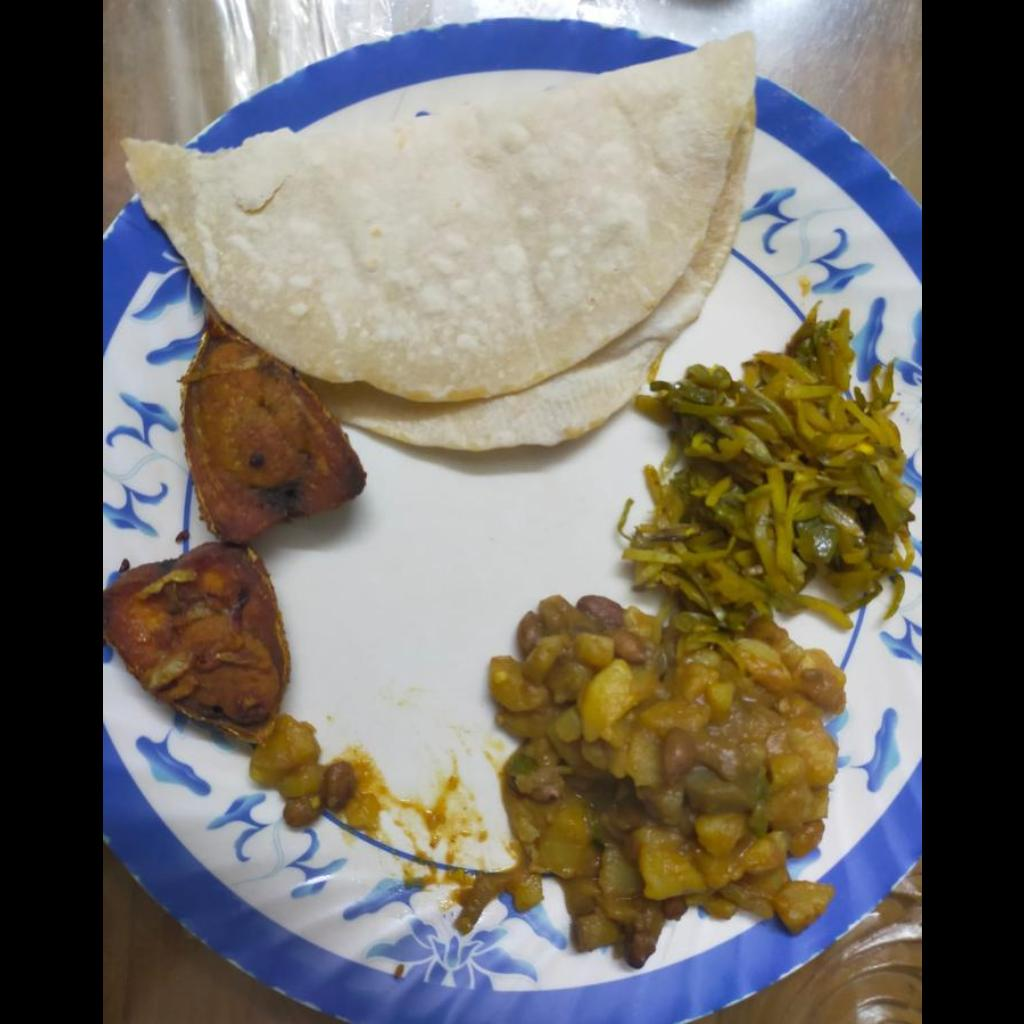chicken: (113, 339, 357, 737)
daal: (492, 591, 849, 949)
ruti: (122, 24, 753, 453)
vaji: (620, 306, 914, 619)
